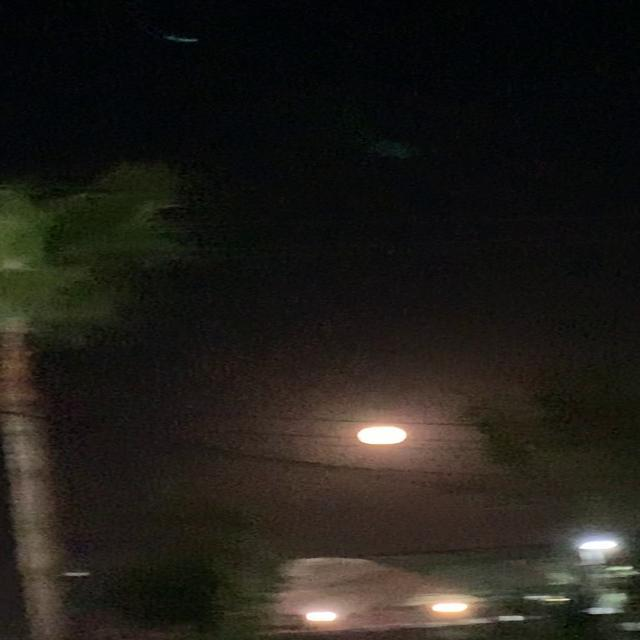moon: (356, 421, 414, 449)
